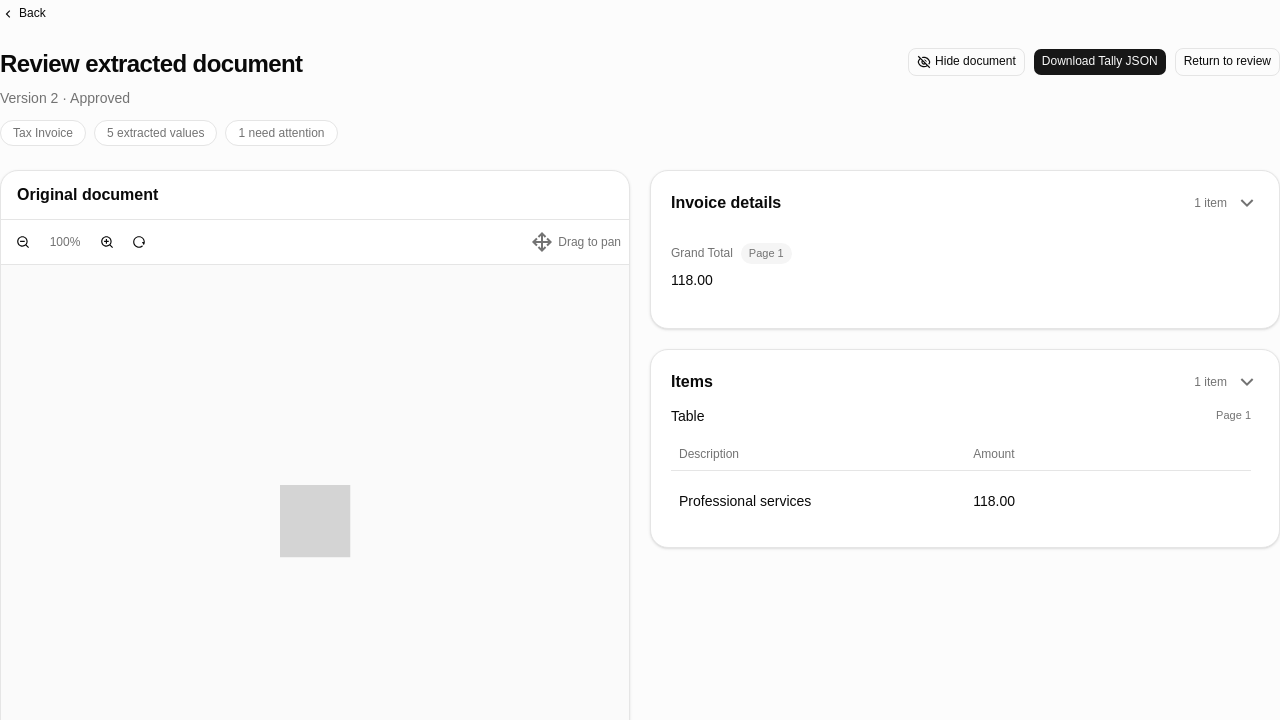
ReviewPage › keeps approved results read-only until they return to review
This screenshot has width=1280, height=720.
Expected: the button "Edit" is not shown
Expected: the button "Use “INV-7”" is not shown
Click the button "Return to review" at (1227, 62), box x1=1175 y1=48 x2=1279 y2=76
(page scrolled)
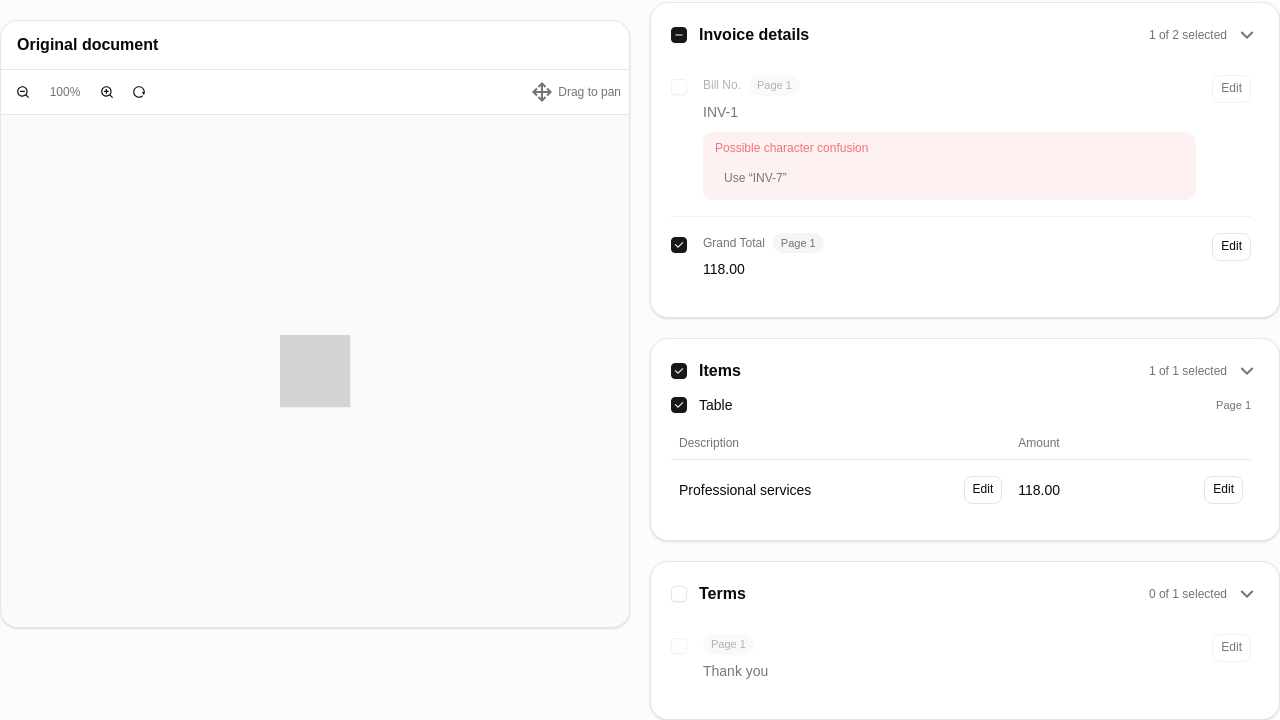
Now the button "Use “INV-7”" is shown, box x1=715 y1=164 x2=796 y2=192
Now the text "Bill No." is shown, box x1=703 y1=77 x2=741 y2=93
Now the text "Terms" is shown, box x1=699 y1=582 x2=746 y2=606
